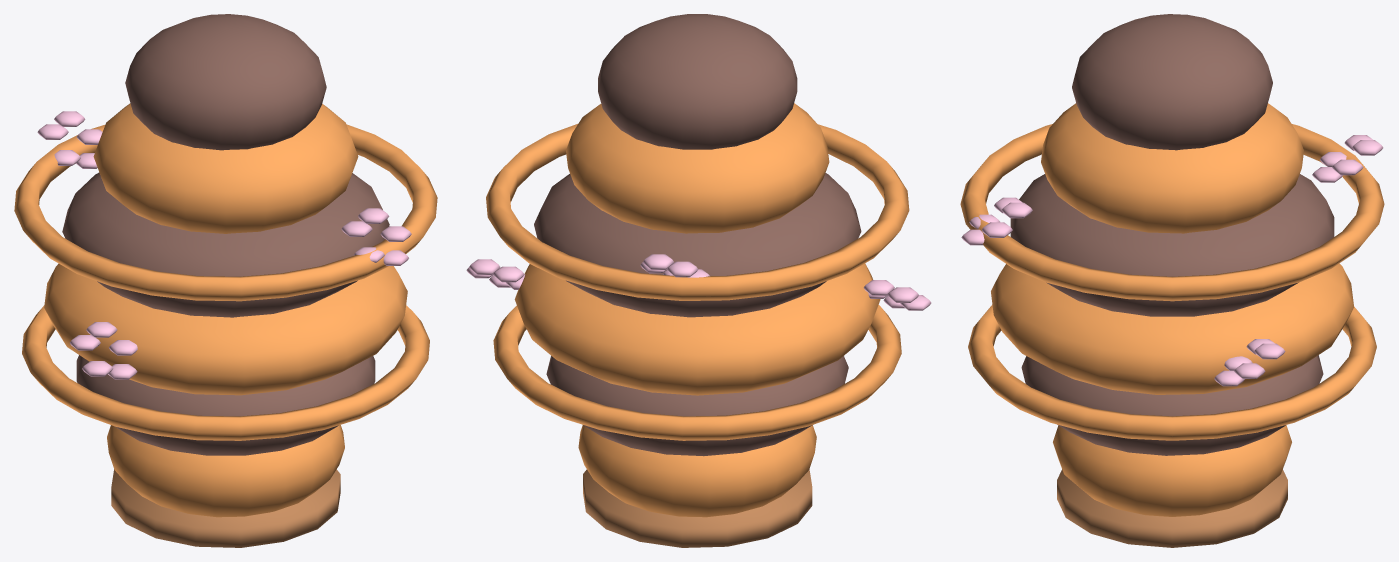
File: egg_volcano_01.glb
The picture shows the model from 3 angles, left to right: view 1: azimuth 30°, elevation 25°; view 2: azimuth 150°, elevation 25°; view 3: azimuth 270°, elevation 25°; orthographic projection.
Visible parts, largest first — view 1: ball; view 2: ball; view 3: ball.
Part boxes in pixels (x1,y1,x2,y2): ball: [14, 14, 437, 547]; ball: [466, 14, 931, 547]; ball: [960, 14, 1384, 547].
Size of the model in its own units: 0.8208 by 0.99 by 0.8078.
